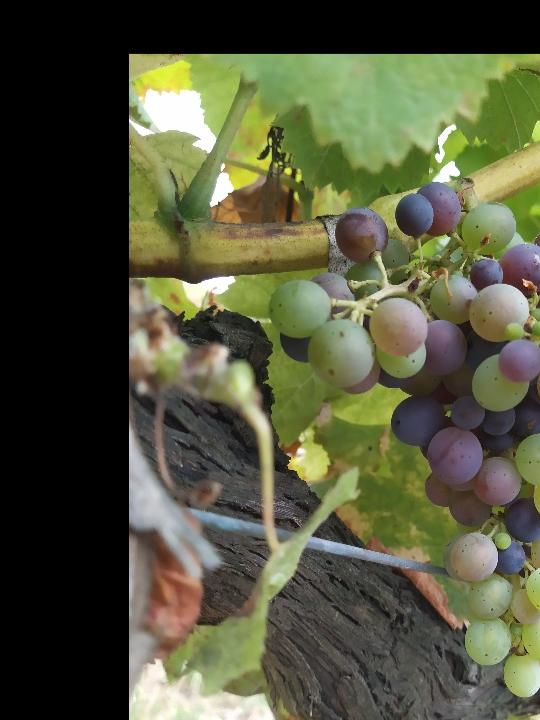grape: (267, 174, 540, 700)
